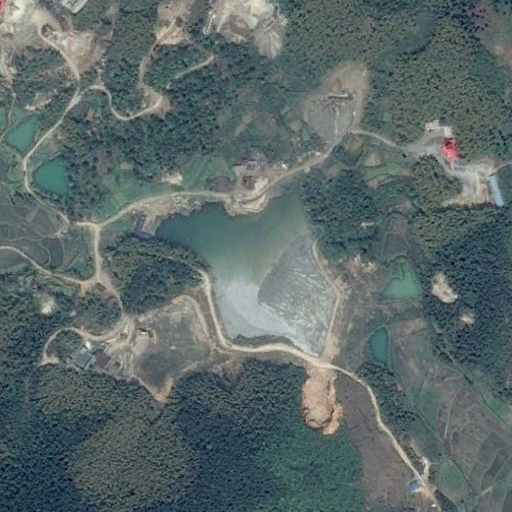tp: (156, 182, 338, 358)
